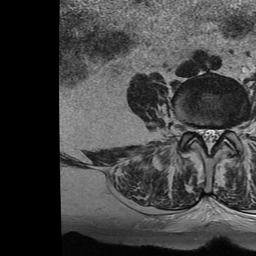CCS_normal: (206, 117, 214, 161)
LFS_severe_stenosis: (224, 117, 233, 141)
LLS_stenosis: (213, 118, 224, 147)
RFS_stenosis: (188, 115, 196, 140)
RLS_stenosis: (196, 117, 206, 146)
